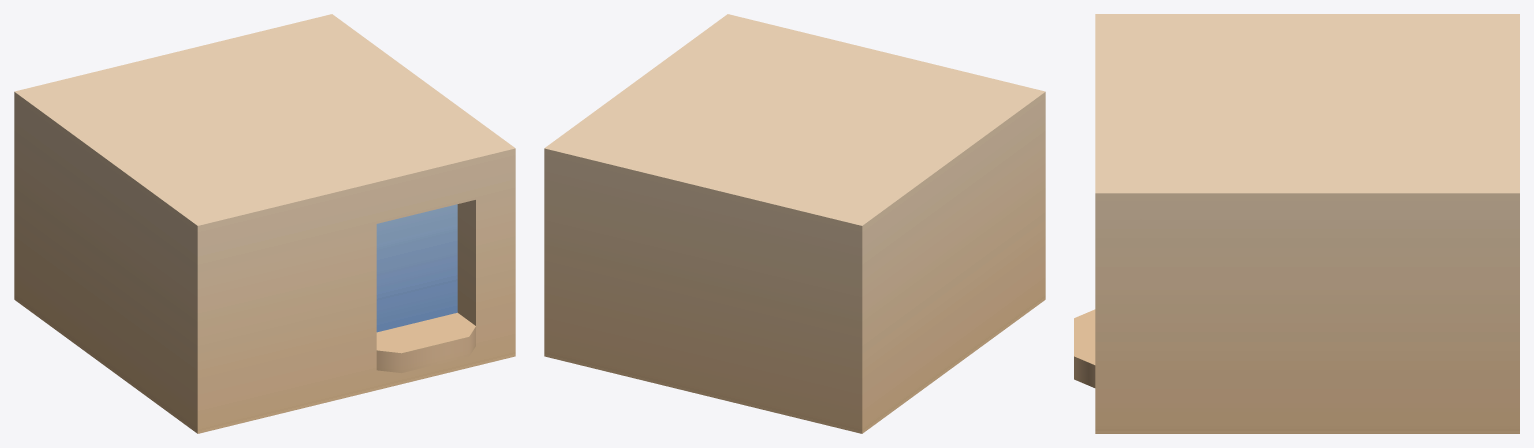
The model's file is building-window-right-sill.glb.
The picture shows the model from 3 angles, left to right: view 1: azimuth 30°, elevation 25°; view 2: azimuth 150°, elevation 25°; view 3: azimuth 270°, elevation 25°; orthographic projection. The views are drawn at different scales.
Parts seen in each view (by area): view 1: building-window-right-sill; view 2: building-window-right-sill; view 3: building-window-right-sill.
Part boxes in pixels (left/top/right/bottom): building-window-right-sill: left=14, top=14, right=515, bottom=433; building-window-right-sill: left=544, top=14, right=1045, bottom=433; building-window-right-sill: left=1074, top=14, right=1519, bottom=433.
Bounding box in the file's own units: 1 × 0.6251 × 1.05.
1 material, 1 textured.
